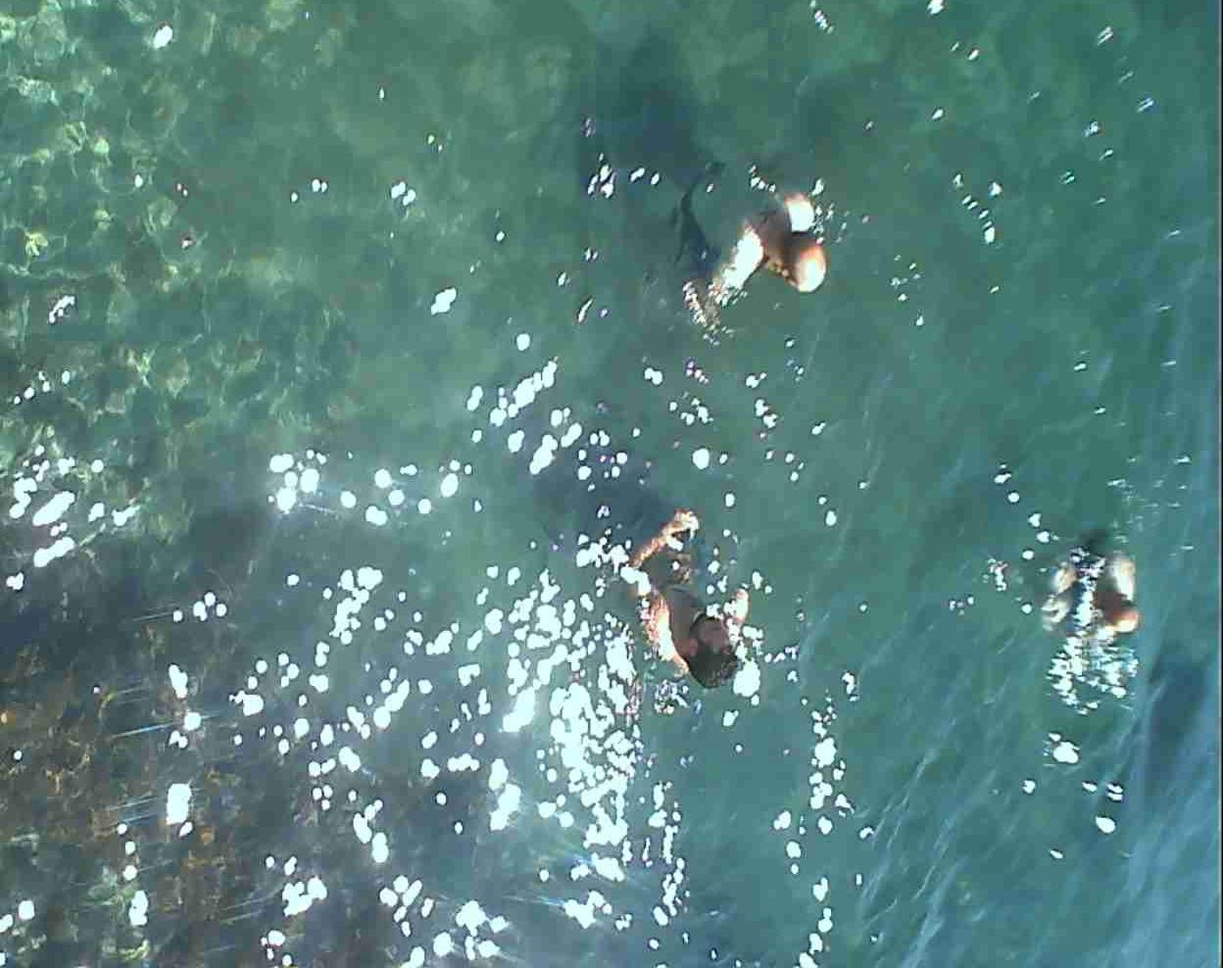swimmer: (664, 139, 834, 355), (613, 479, 754, 715), (1047, 517, 1146, 666)
